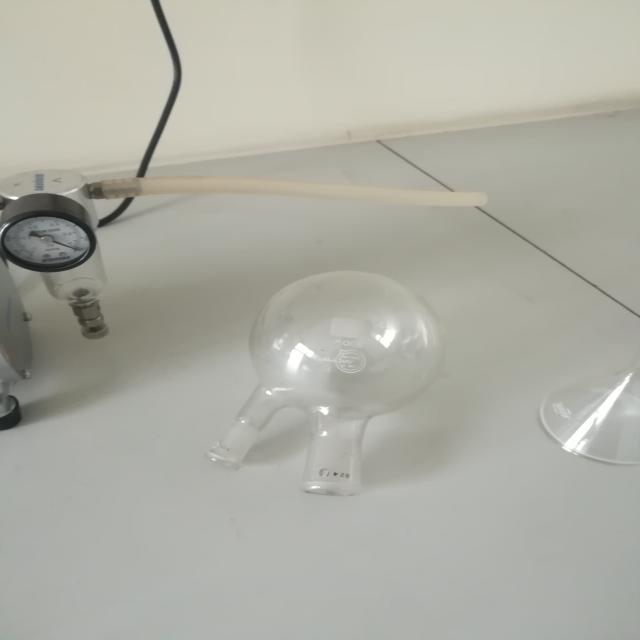Round_Bottom_Flask_Borosilicate_Glass_2_Neck: (175, 239, 471, 532)
